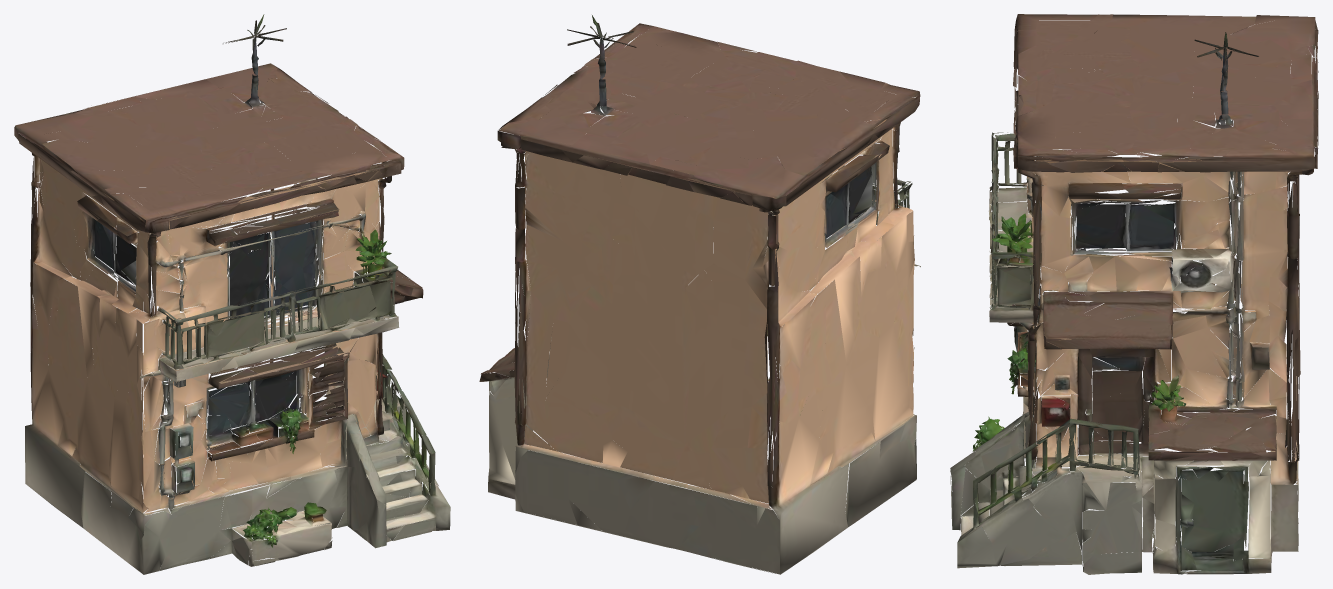
Rendered from building25.glb.
The picture shows the model from 3 angles, left to right: view 1: azimuth 30°, elevation 25°; view 2: azimuth 150°, elevation 25°; view 3: azimuth 270°, elevation 25°; orthographic projection. The views are drawn at different scales.
Parts seen in each view (by area): view 1: tripo_node_e8145877-03c8-4ffd-8ec1-50a8a4fb43f5; view 2: tripo_node_e8145877-03c8-4ffd-8ec1-50a8a4fb43f5; view 3: tripo_node_e8145877-03c8-4ffd-8ec1-50a8a4fb43f5.
Part boxes in pixels (bbox=[...]): tripo_node_e8145877-03c8-4ffd-8ec1-50a8a4fb43f5: bbox=[14, 14, 450, 574]; tripo_node_e8145877-03c8-4ffd-8ec1-50a8a4fb43f5: bbox=[479, 15, 920, 574]; tripo_node_e8145877-03c8-4ffd-8ec1-50a8a4fb43f5: bbox=[950, 14, 1318, 574].
Bounding box in the file's own units: 0.6814 × 0.981 × 0.6525.
1 material, 1 textured.
